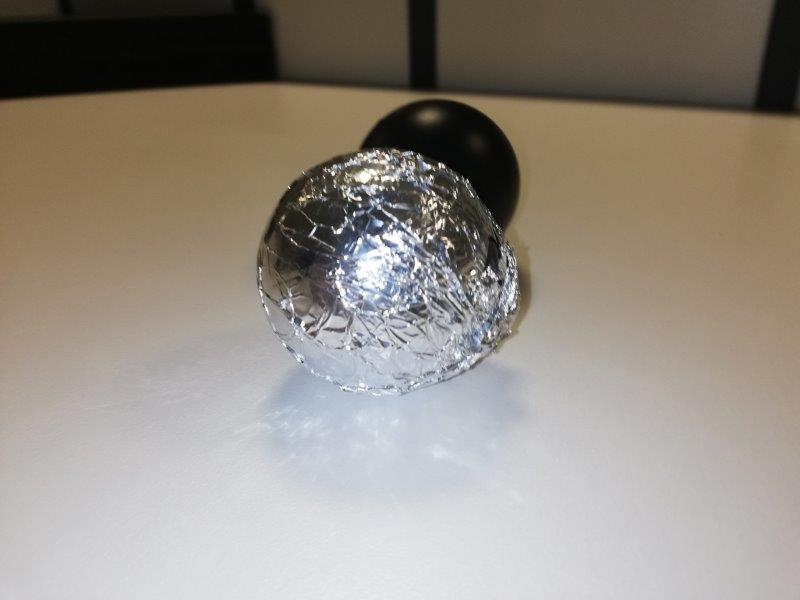bianca: (256, 145, 515, 390)
nera: (358, 92, 518, 214)
